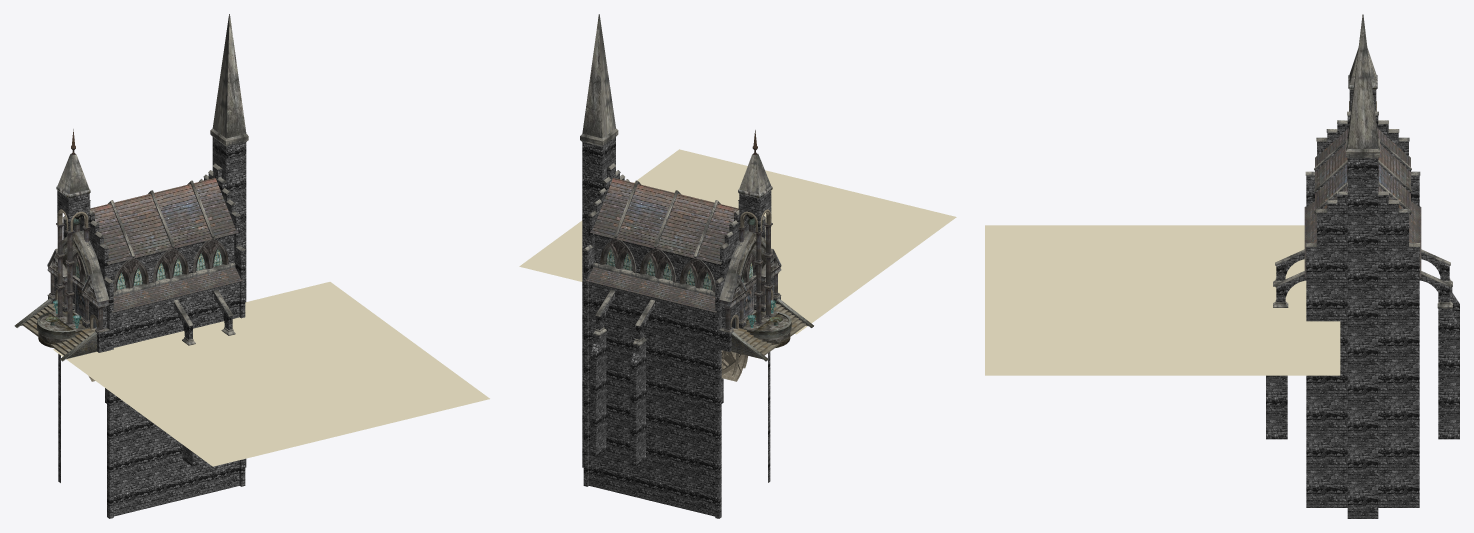
3 renders of one model, left to right at view 1: azimuth 30°, elevation 25°; view 2: azimuth 150°, elevation 25°; view 3: azimuth 270°, elevation 25°, orthographic. The views are drawn at different scales.
Parts seen in each view (by area): view 1: Terrain 3,9, Epic Citidel, By Cuteulala Artis, Mesh Church B3; view 2: Epic Citidel (×2), Terrain 3,9, By Cuteulala Artis, Mesh Church B3; view 3: Terrain 3,9, Epic Citidel, By Cuteulala Artis.
Boxes of the visible parts, box(x1,y1,x2,y2) form: Terrain 3,9: box(53, 282, 489, 466); Epic Citidel: box(54, 14, 248, 518); By Cuteulala Artis: box(47, 129, 109, 352); Mesh Church B3: box(14, 298, 97, 361); Epic Citidel (×2): box(580, 14, 774, 518); Terrain 3,9: box(519, 149, 956, 334); By Cuteulala Artis: box(719, 130, 781, 354); Mesh Church B3: box(731, 298, 813, 361); Terrain 3,9: box(985, 225, 1340, 375); Epic Citidel: box(1266, 14, 1459, 518); By Cuteulala Artis: box(1348, 48, 1377, 111).
Bounding box in the file's own units: 64.92 × 99.28 × 85.56.
Materials: 30 (28 with a texture image).
